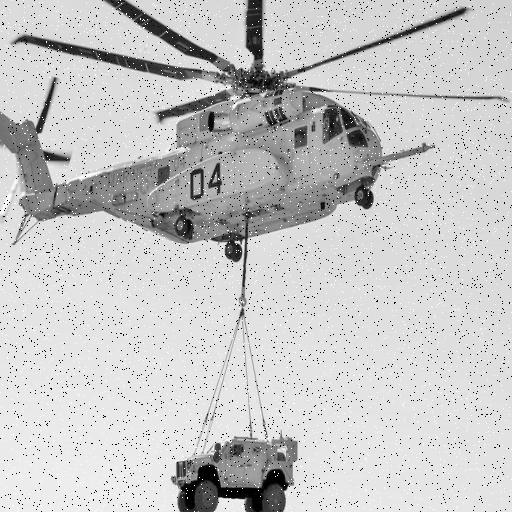helicopter: (1, 1, 512, 267)
